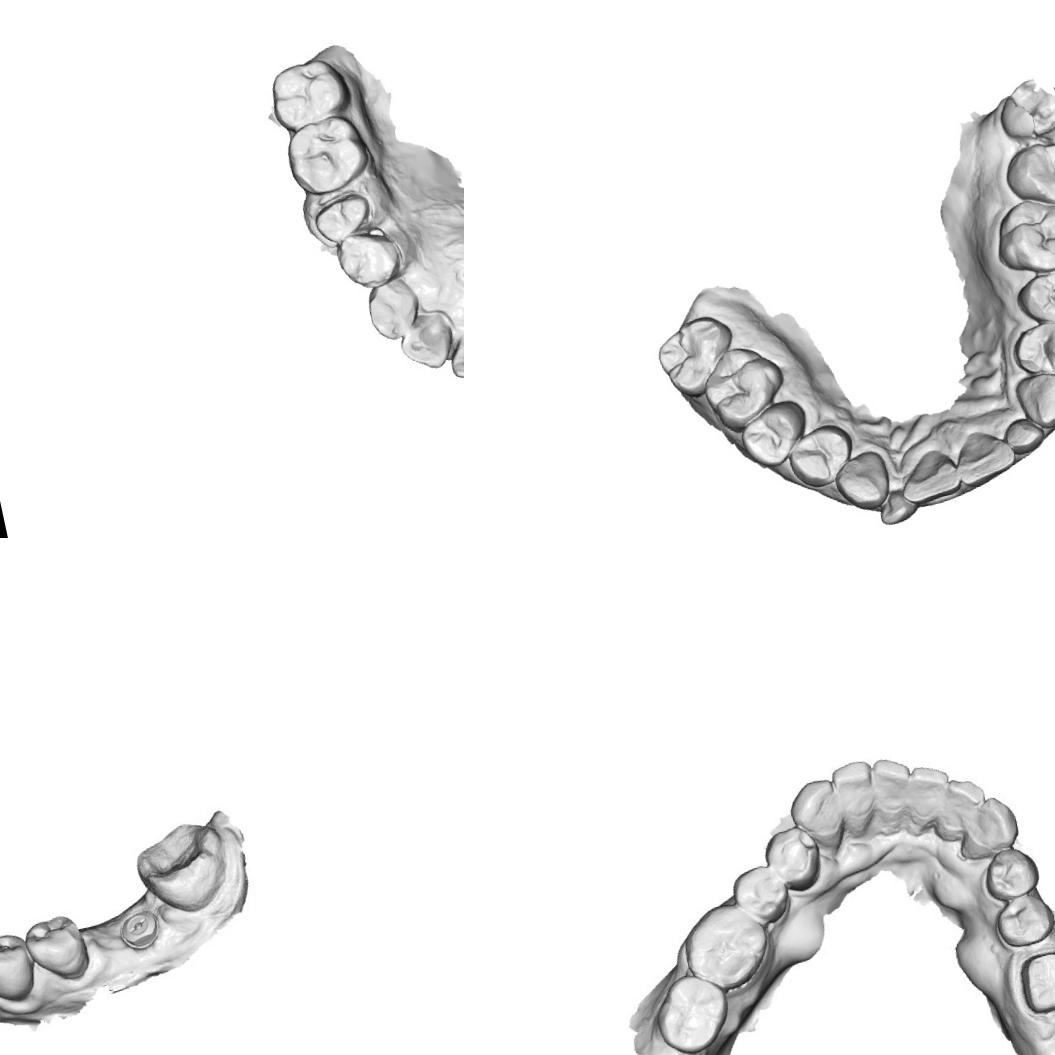canine: (783, 772, 848, 852), (948, 793, 1024, 861), (829, 444, 897, 518), (360, 276, 422, 346), (1011, 366, 1055, 433)
crown: (308, 188, 375, 250), (1011, 941, 1055, 1022)
implant_minus: (114, 904, 167, 956)
incisor: (390, 303, 462, 378), (950, 422, 1022, 486), (897, 444, 968, 506), (830, 757, 881, 838), (902, 758, 954, 830), (934, 770, 990, 836), (869, 756, 917, 831), (999, 410, 1048, 457), (873, 482, 921, 528), (439, 314, 464, 390)
molar: (127, 815, 239, 920), (692, 336, 795, 438), (650, 310, 742, 406), (280, 112, 376, 202), (676, 899, 772, 988), (648, 968, 736, 1055), (262, 52, 355, 134), (985, 187, 1055, 285), (995, 129, 1055, 226)
premolar: (732, 396, 815, 473), (20, 906, 96, 990), (780, 418, 859, 494), (332, 226, 410, 293), (993, 889, 1055, 953), (763, 822, 825, 886), (977, 842, 1040, 904), (730, 863, 790, 928), (1006, 313, 1055, 387), (1012, 261, 1055, 334), (0, 930, 37, 1006)
